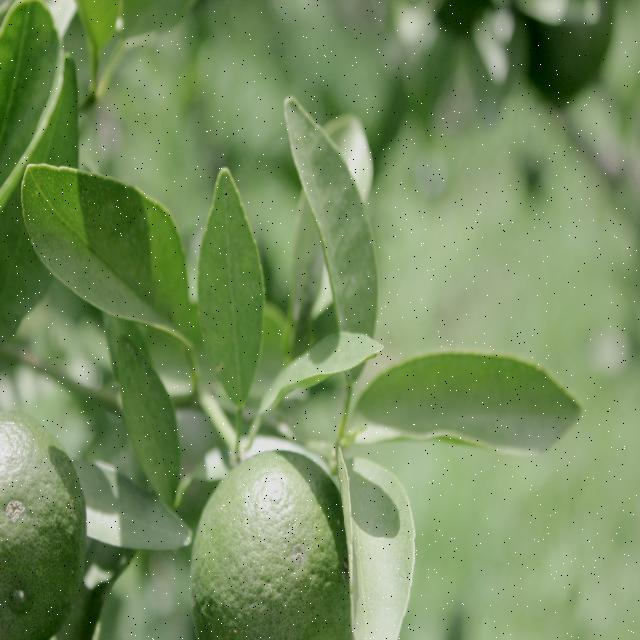blackspot: (43, 171, 178, 327)
